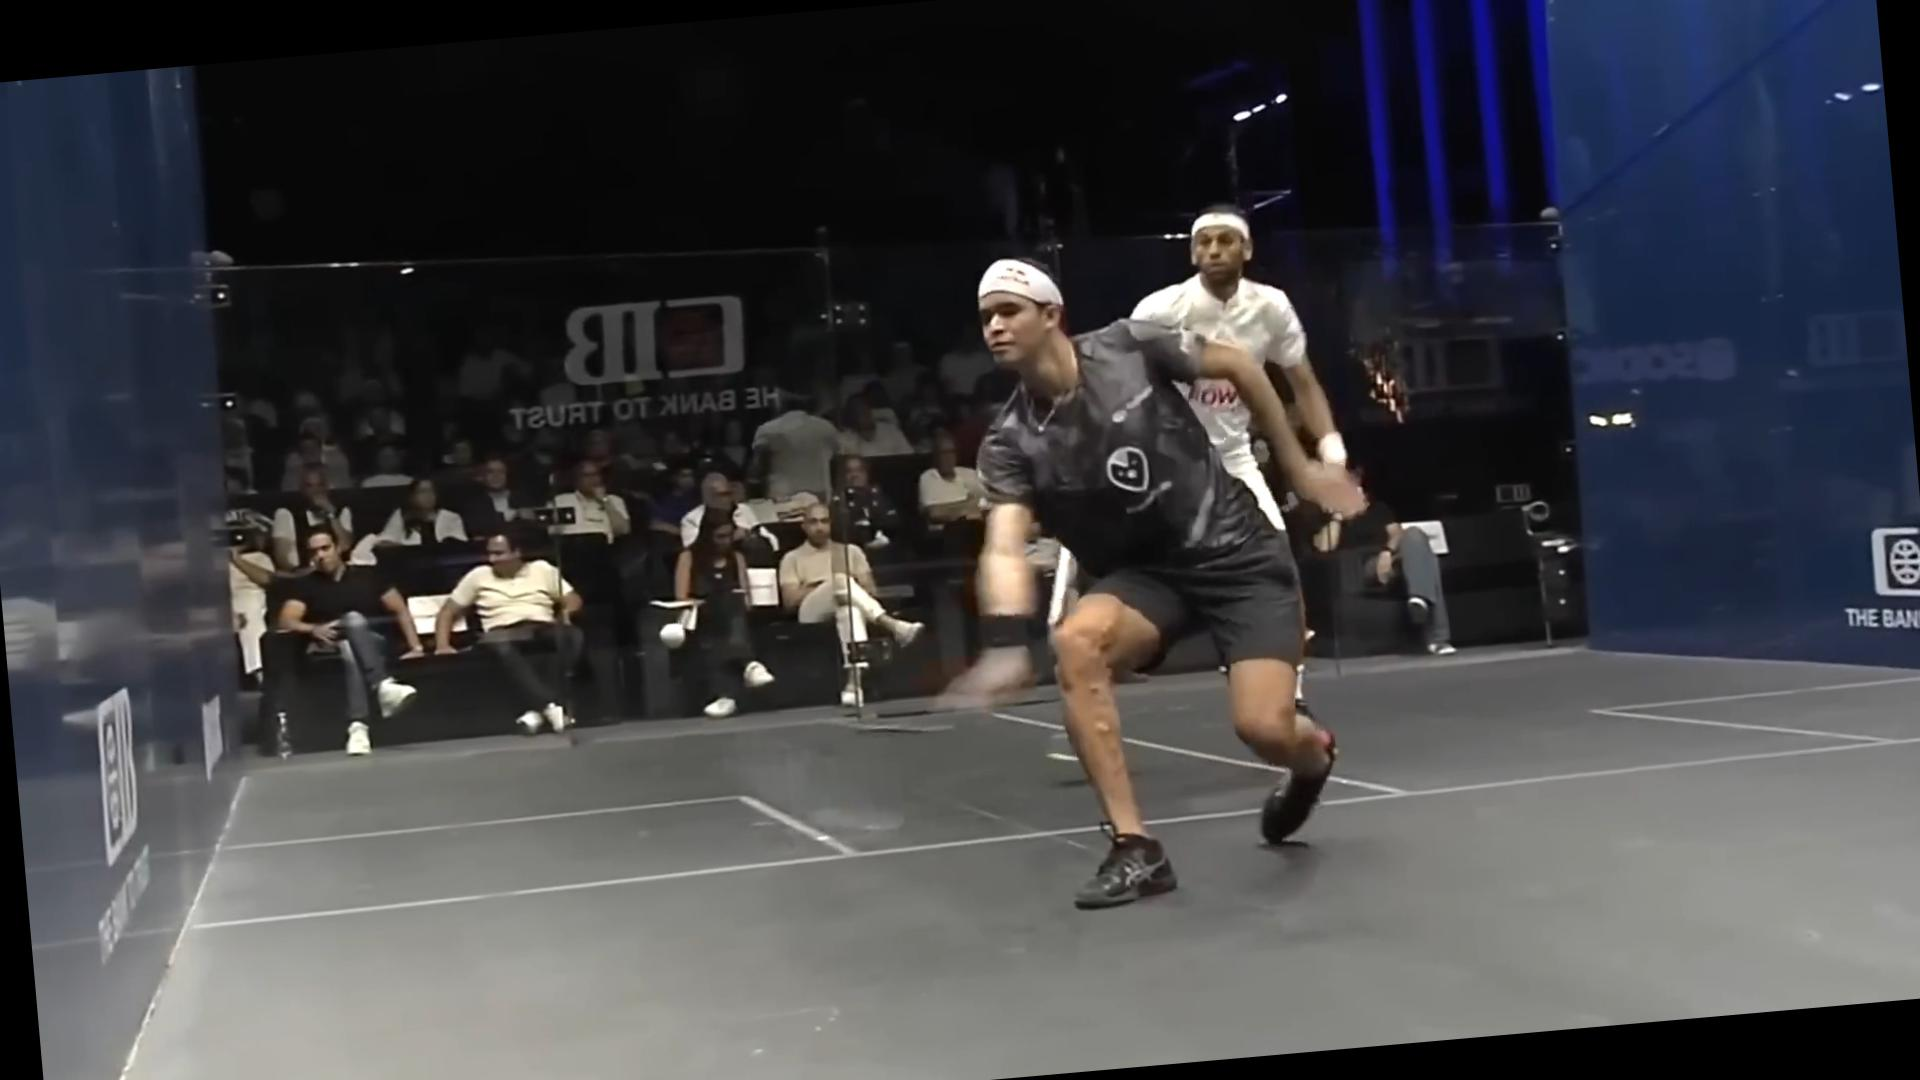Squash-Ball: (644, 601, 709, 673)
